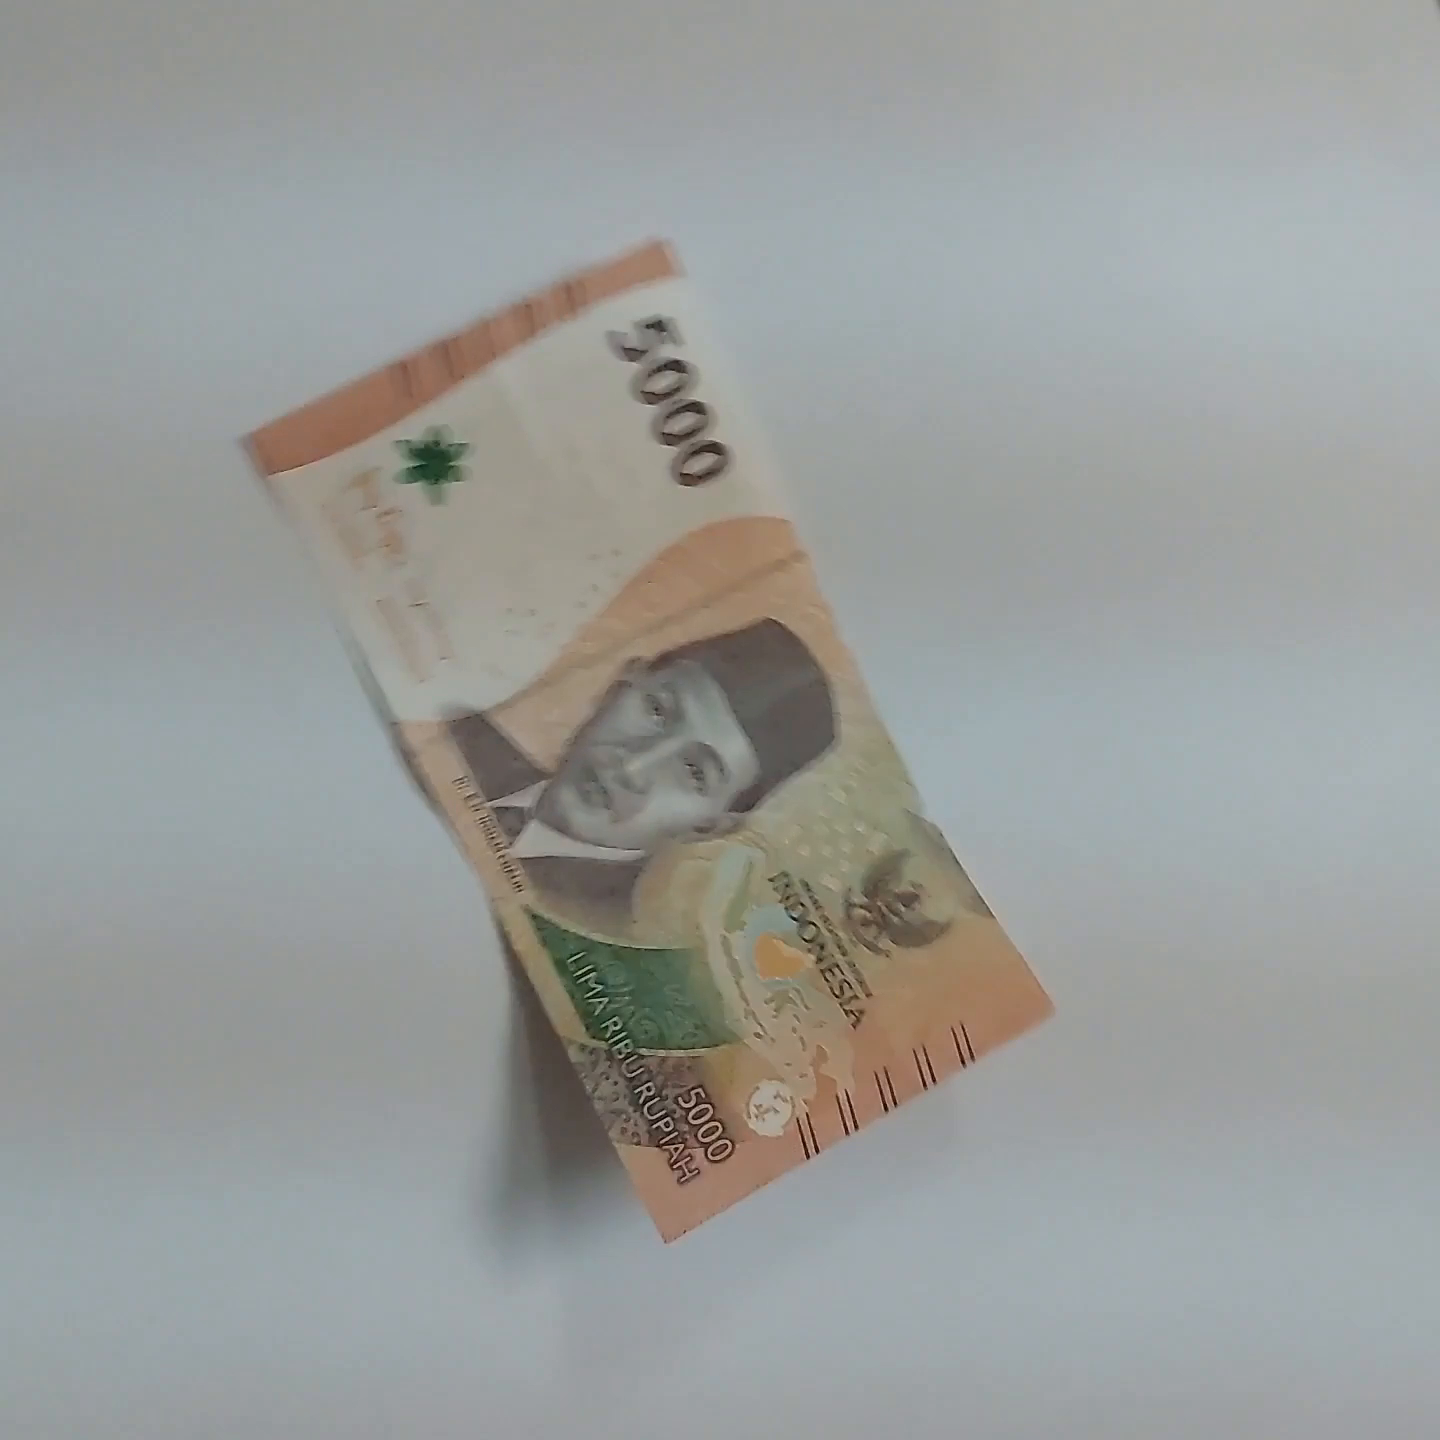5k: (207, 135, 1142, 1294)
